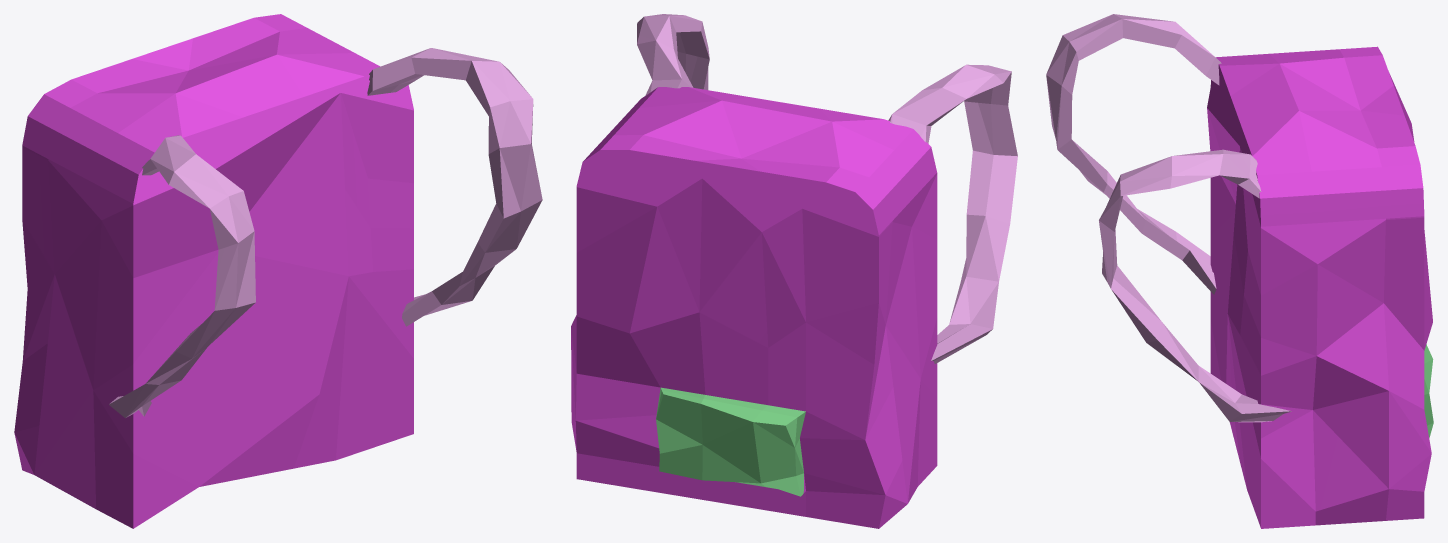
The model's file is corps_cartable.fbx.
3 views of the same model, side by side, from view 1: azimuth 30°, elevation 25°; view 2: azimuth 150°, elevation 25°; view 3: azimuth 270°, elevation 25° (orthographic). The views are drawn at different scales.
Parts seen in each view (by area): view 1: Box044; view 2: Box044; view 3: Box044.
Boxes of the visible parts, bbox=[...] form: Box044: bbox=[14, 14, 542, 528]; Box044: bbox=[571, 14, 1017, 528]; Box044: bbox=[1046, 14, 1433, 528].
Bounding box in the file's own units: 59.05 × 56.98 × 53.04.
